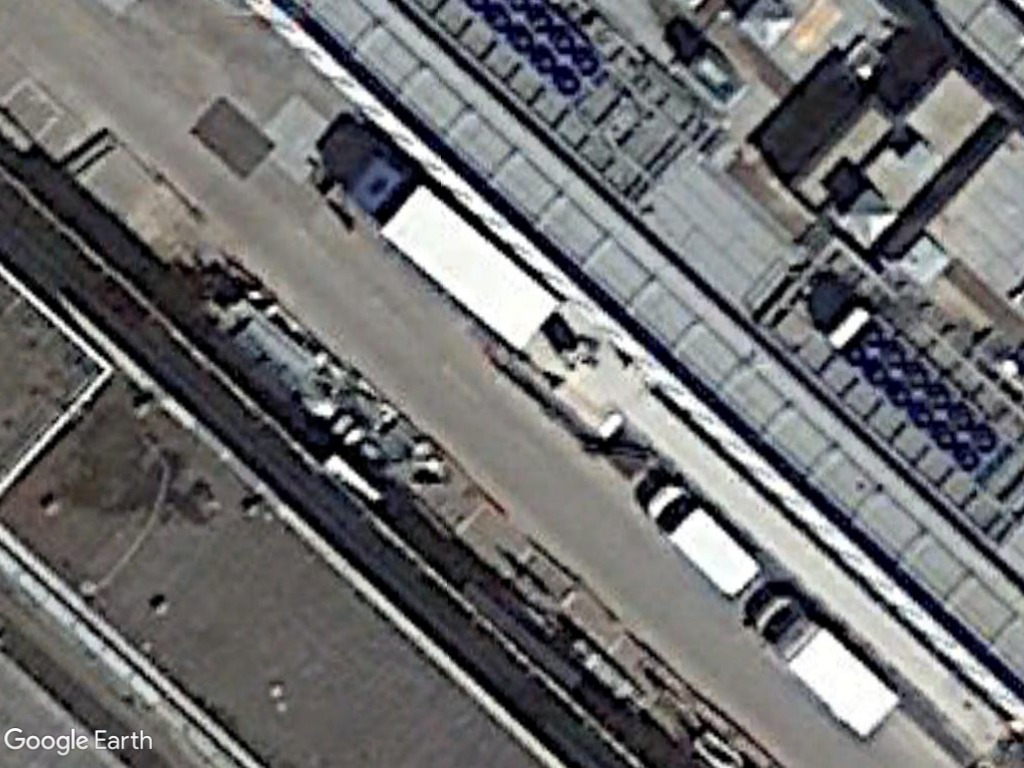truck: (345, 147, 566, 364), (746, 589, 902, 744)
van: (640, 476, 765, 600)
